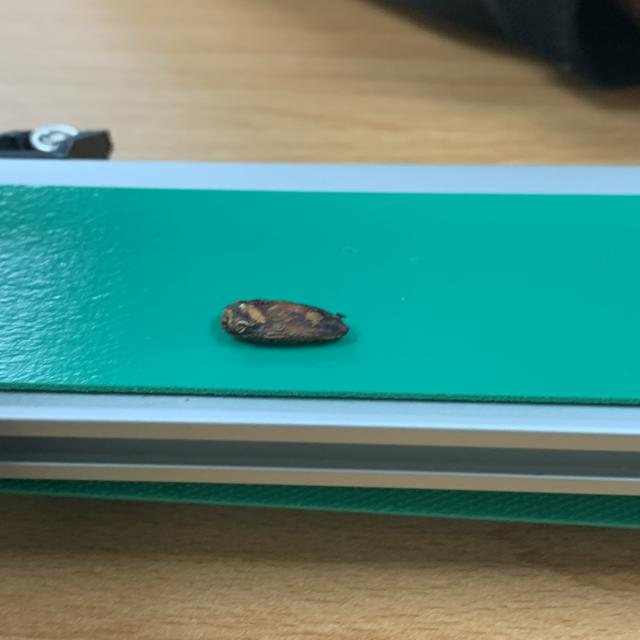Flat_cocoabeans: (172, 268, 478, 408)
